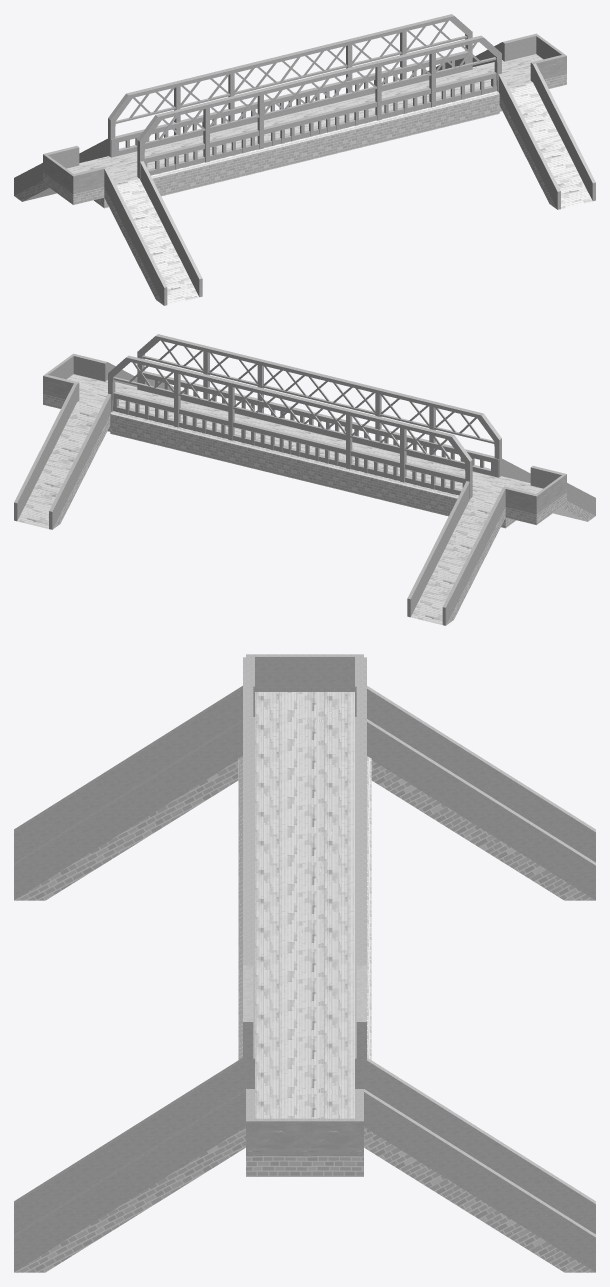
The model's file is Bridge_B_001.fbx.
3 renders of one model, top to bottom at view 1: azimuth 30°, elevation 25°; view 2: azimuth 150°, elevation 25°; view 3: azimuth 270°, elevation 25°, orthographic. The views are drawn at different scales.
Parts seen in each view (by area): view 1: Bridge_B_001; view 2: Bridge_B_001; view 3: Bridge_B_001.
Part boxes in pixels (left/top/right/bottom): Bridge_B_001: left=14, top=14, right=595, bottom=305; Bridge_B_001: left=14, top=334, right=595, bottom=625; Bridge_B_001: left=14, top=654, right=595, bottom=1272.
Size of the model in its own units: 8058 by 2070 by 4247.
Materials: 3 (3 with a texture image).
